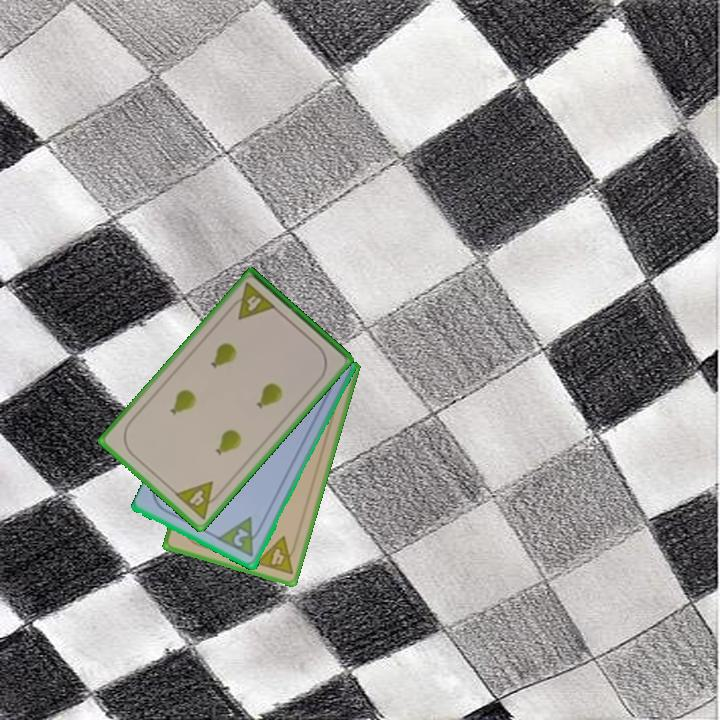2p: (230, 525, 252, 550)
4p: (171, 478, 226, 523), (226, 279, 279, 323), (252, 533, 301, 578)
